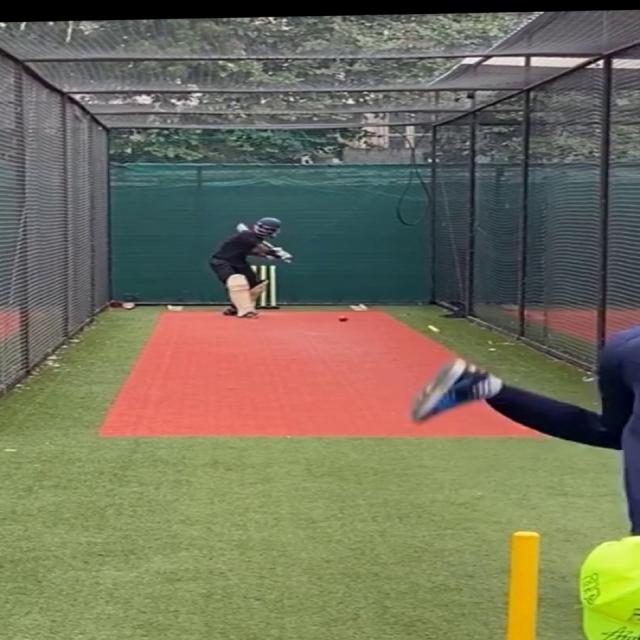ball: (338, 314, 352, 322)
stump: (258, 265, 280, 310)
